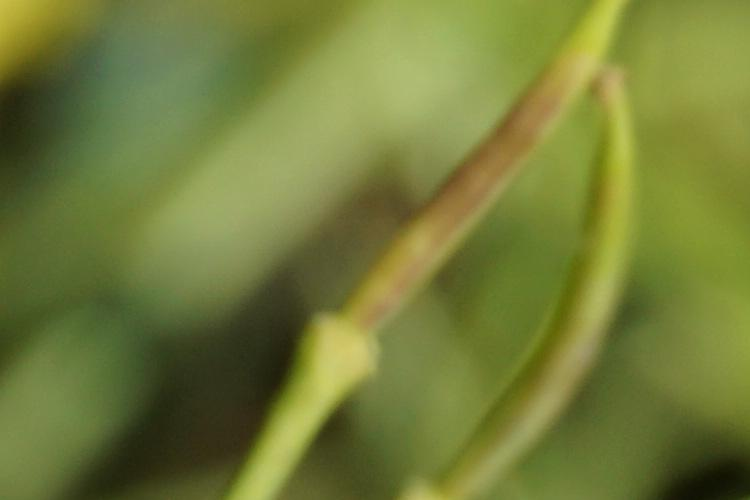pod: (275, 27, 579, 320), (478, 46, 663, 493)
